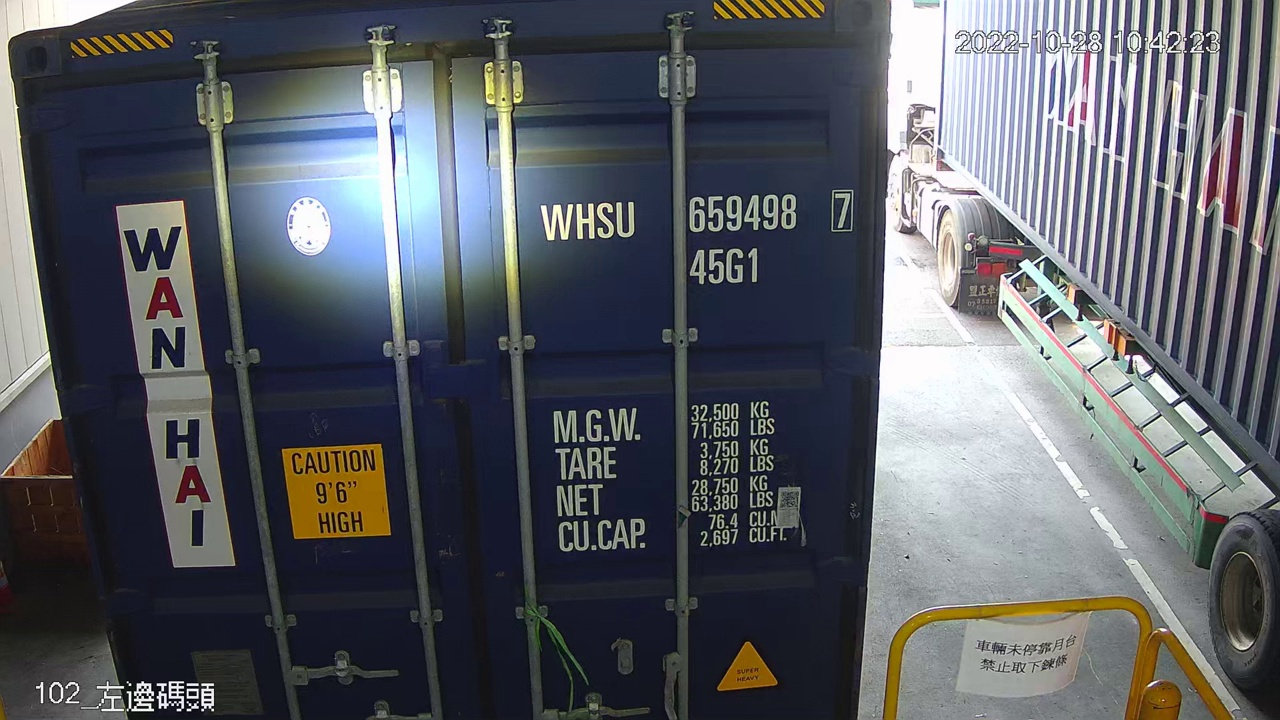container: (533, 183, 861, 295)
